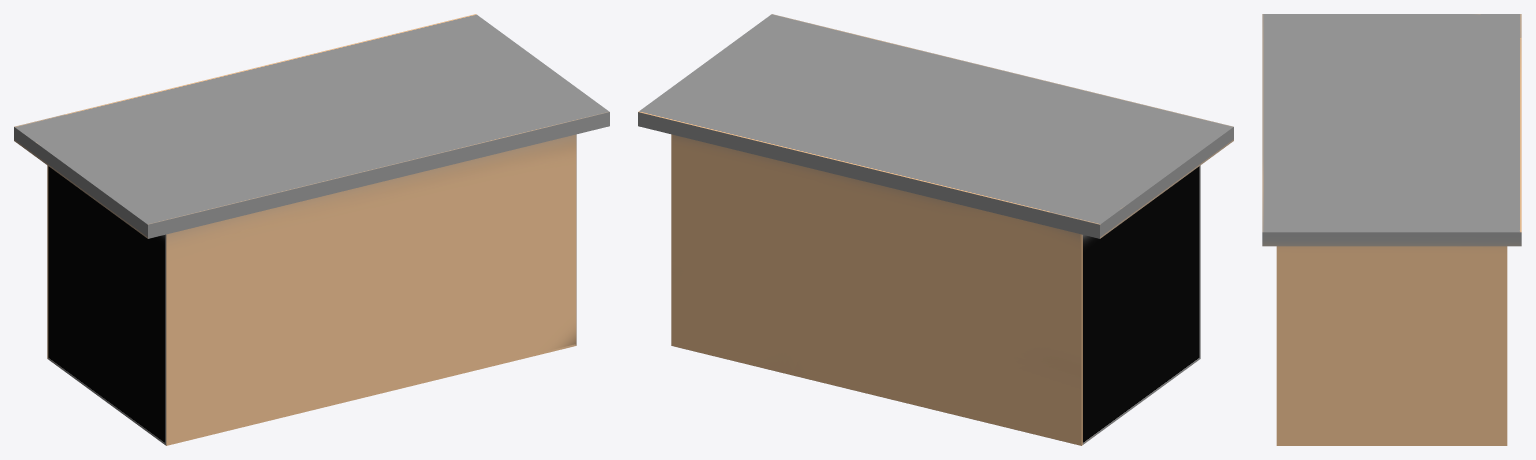
The model's file is Counter.fbx.
The picture shows the model from 3 angles, left to right: view 1: azimuth 30°, elevation 25°; view 2: azimuth 150°, elevation 25°; view 3: azimuth 270°, elevation 25°; orthographic projection. The views are drawn at different scales.
Visible parts, largest first — view 1: Counter.001; view 2: Counter.001; view 3: Counter.001.
Part boxes in pixels (<box>): Counter.001: <box>14,14,609,445</box>; Counter.001: <box>638,14,1233,445</box>; Counter.001: <box>1262,14,1521,445</box>.
Bounding box in the file's own units: 78.08 × 39.2 × 37.64.
1 material, 1 textured.
